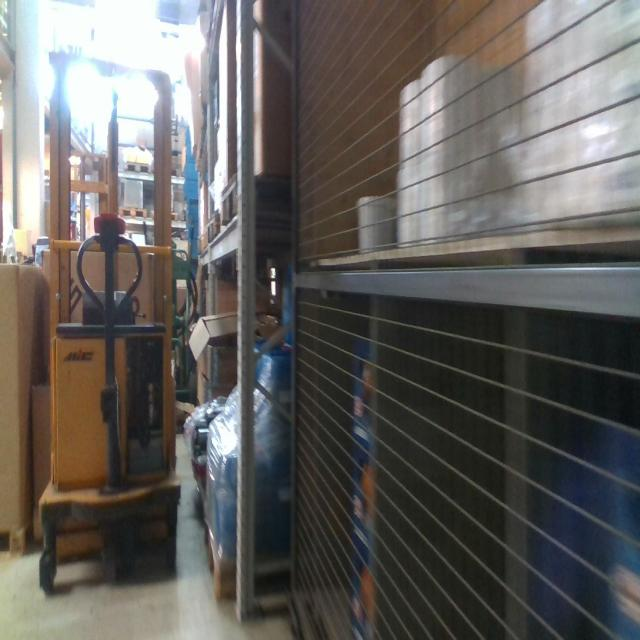pallet: (221, 172, 293, 218), (205, 521, 243, 603), (0, 513, 33, 560), (118, 205, 147, 221), (125, 160, 151, 175), (207, 216, 217, 247)
pallet_truck: (39, 40, 179, 579)
